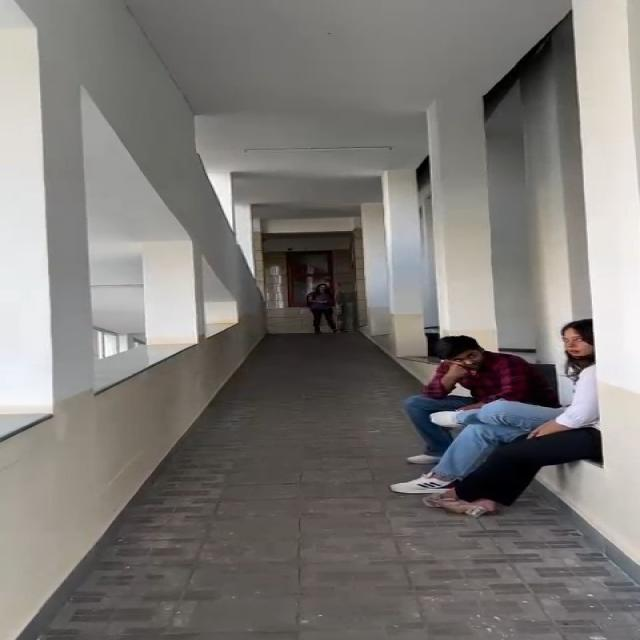floor: (86, 515, 640, 640), (252, 353, 418, 513)
moving_object: (432, 318, 630, 510)
wall: (6, 0, 232, 568), (243, 114, 511, 336)
